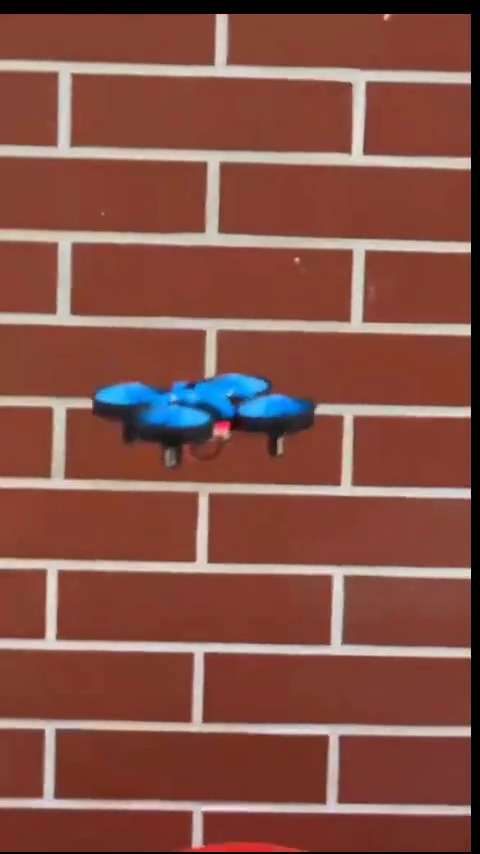drone: (96, 368, 323, 464)
